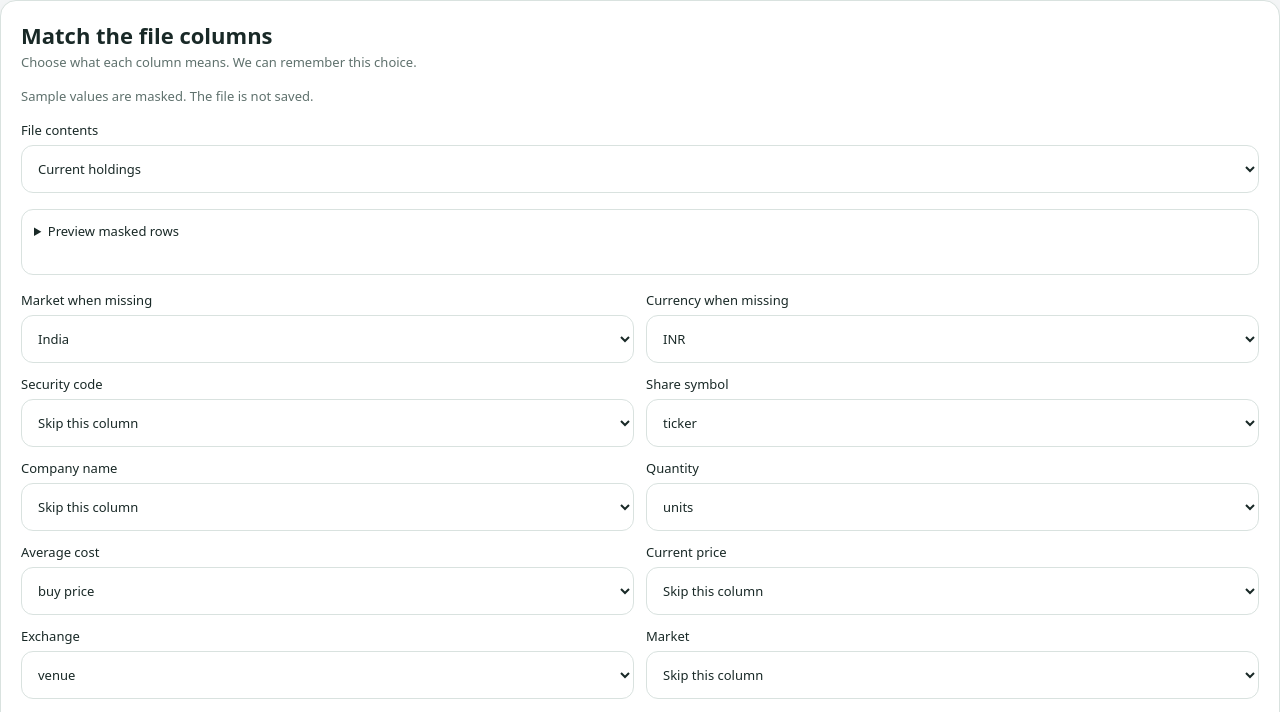
Test case: statement import review › maps an unfamiliar file and returns to the review
Expected: the heading "Match the file columns" is shown, top-left (21, 20), bottom-right (272, 50)
Step 1. Select "security id" in the dropdown labelled "Security code" → [328, 423], box top-left (21, 399), bottom-right (634, 447)
(page scrolled)
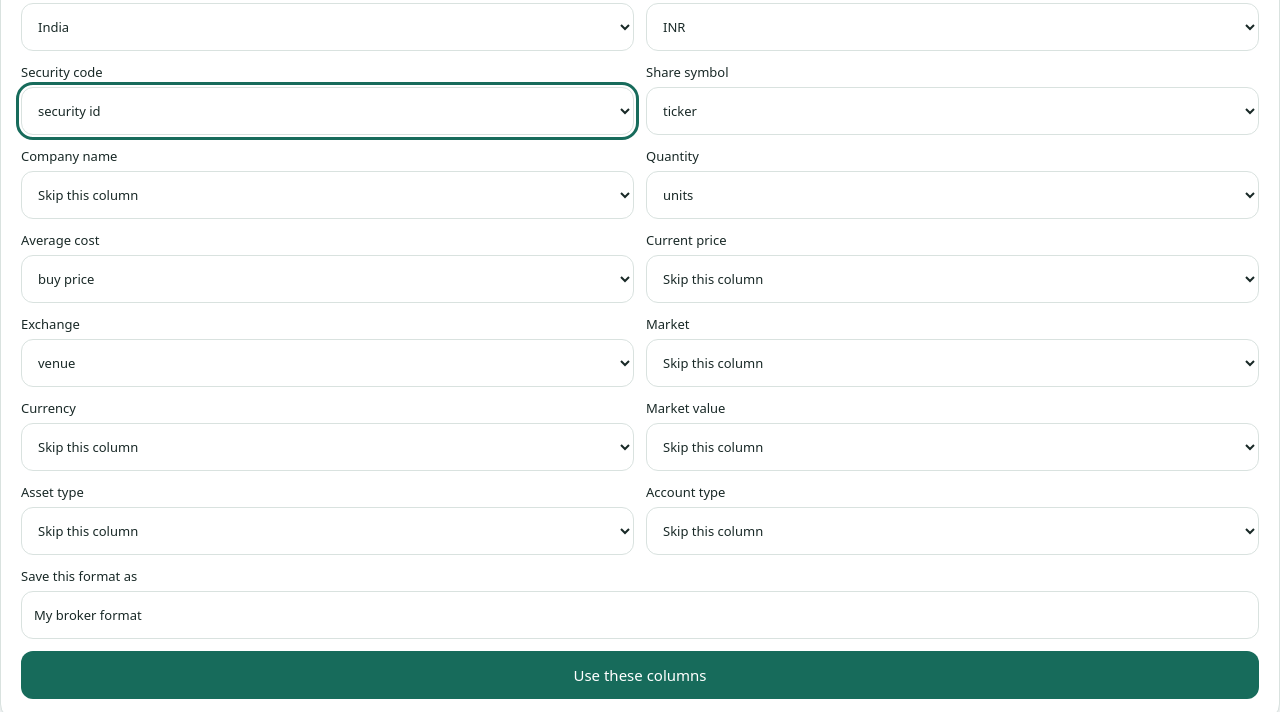
Step 2. Click the button "Use these columns" → [640, 675], box top-left (21, 651), bottom-right (1259, 699)
(page scrolled)
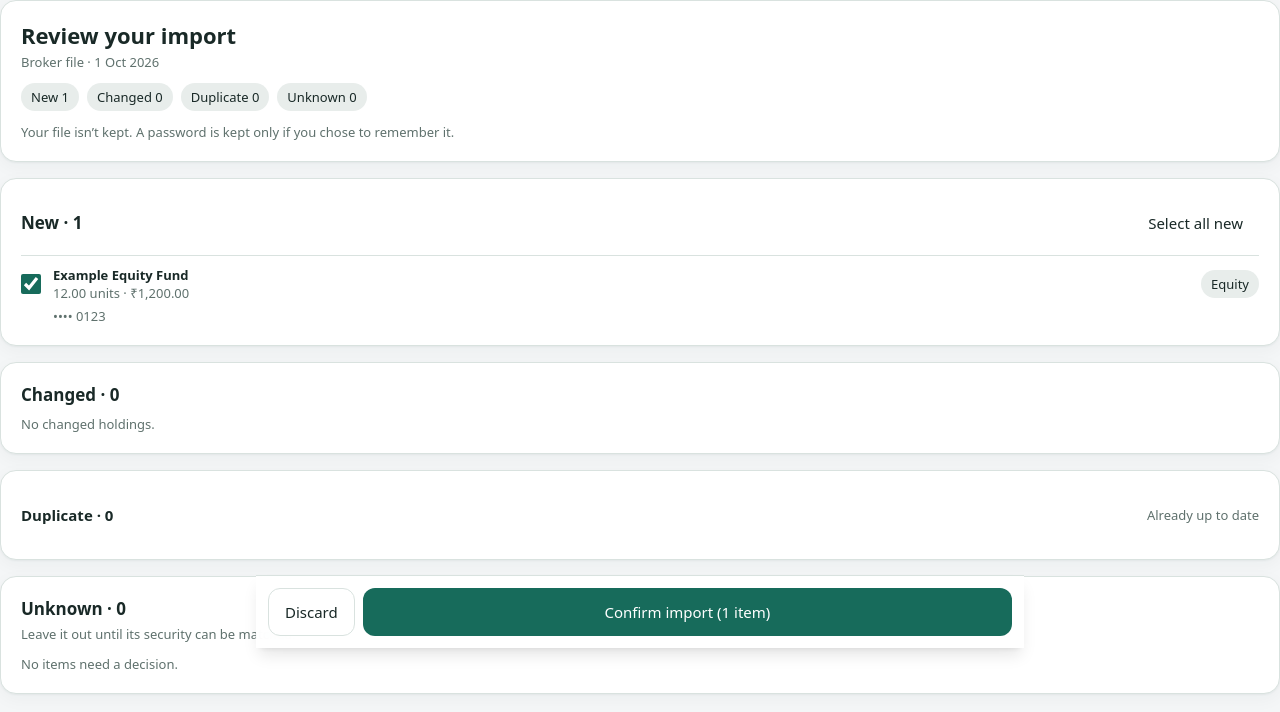
Expected: the heading "Review your import" is shown, top-left (21, 20), bottom-right (236, 50)
